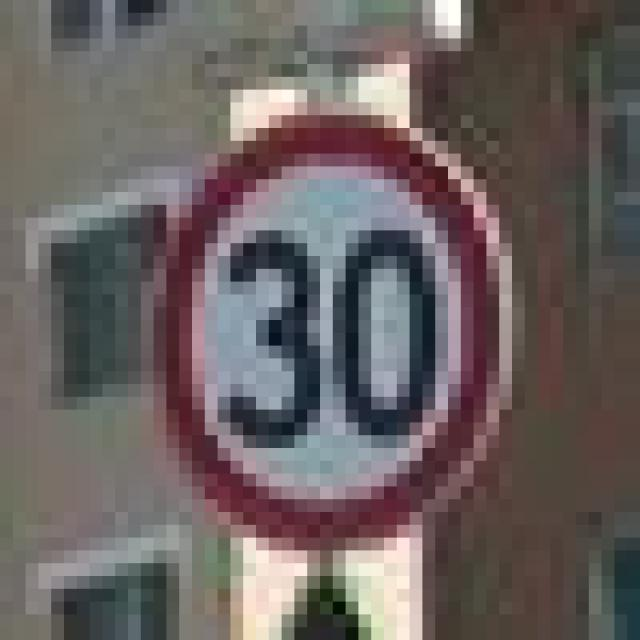SPEED_LIMIT_30: (128, 90, 512, 550)
